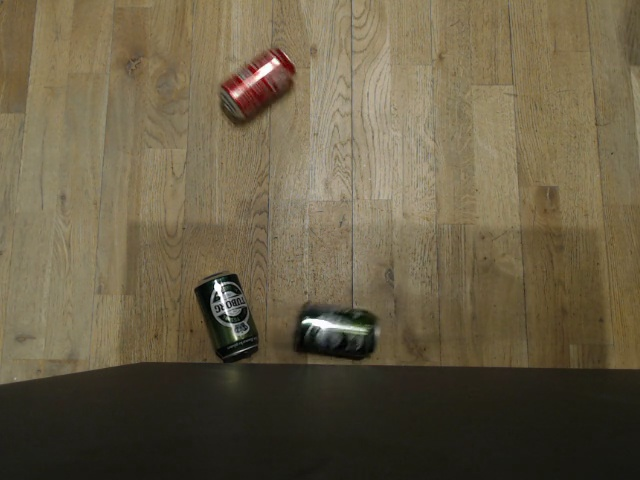beer: (193, 270, 259, 365), (295, 300, 379, 359)
cola: (218, 44, 296, 122)
